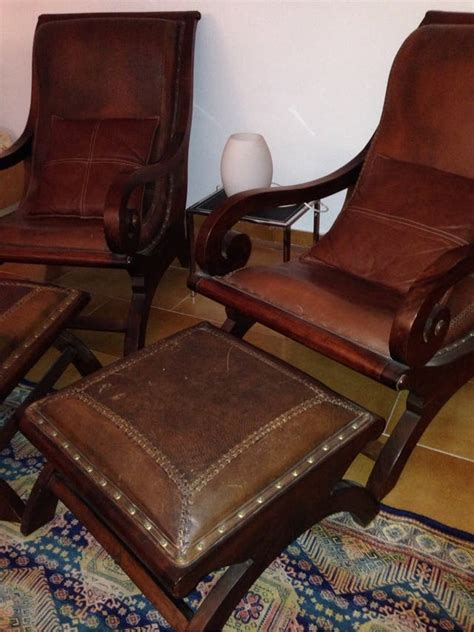cuero: (6, 8, 474, 577)
